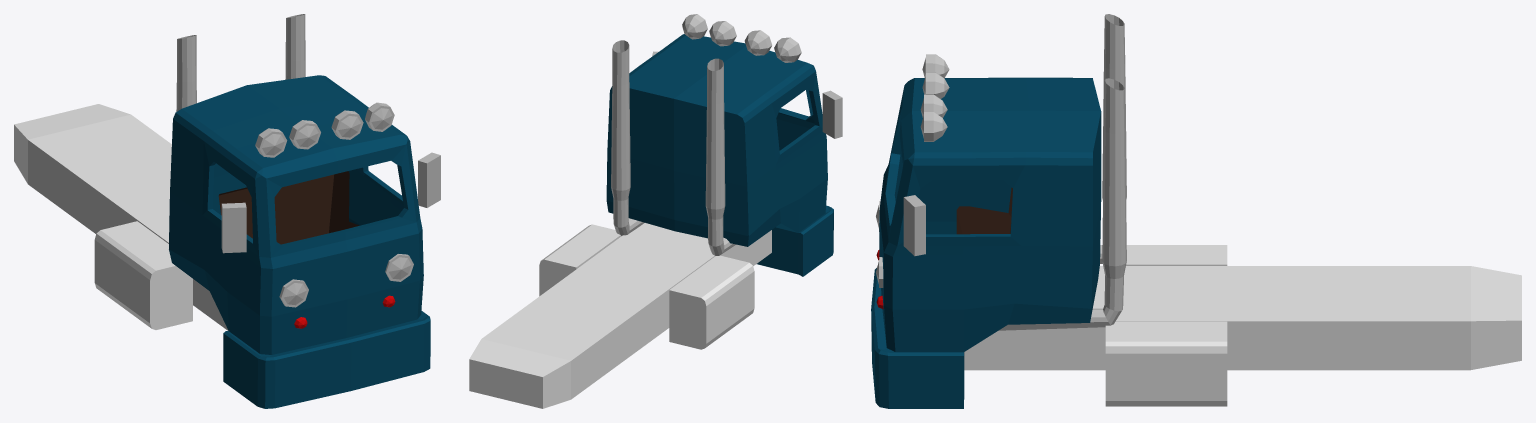
File: truck 2.glb
The picture shows the model from 3 angles, left to right: view 1: azimuth 30°, elevation 25°; view 2: azimuth 150°, elevation 25°; view 3: azimuth 270°, elevation 25°; orthographic projection. The views are drawn at different scales.
Parts seen in each view (by area): view 1: Cube.067, Cube.068, Cube.070, Cube.066, Plane.059, Plane.068, Cube.078, Cube.074, Cylinder.120, Cylinder.126, Cylinder.119, Cylinder.102 (+2 smaller); view 2: Cube.067, Cube.068, Cube.070, Plane.068, Plane.059, Cube.069, Cube.078, Cylinder.119, Cylinder.126, Cylinder.120, Cylinder.102; view 3: Cube.067, Cube.068, Cube.069, Plane.068, Cube.070, Plane.059, Cube.066, Cube.074, Cylinder.102.
Boxes of the visible parts, x1,y1,x2,y2 form: Cube.067: (169,75,430,408); Cube.068: (14,104,228,330); Cube.070: (94,221,192,329); Cube.066: (218,171,359,244); Plane.059: (176,35,196,111); Plane.068: (285,14,305,79); Cube.078: (221,202,246,253); Cube.074: (418,152,440,207); Cylinder.120: (331,110,363,139); Cylinder.126: (255,128,287,157); Cylinder.119: (289,120,320,149); Cylinder.102: (365,102,394,131); Cube.067: (606,34,833,276); Cube.068: (469,223,771,408); Cube.070: (669,255,754,349); Plane.068: (611,40,644,235); Plane.059: (705,58,735,255); Cube.069: (539,224,621,296); Cube.078: (822,90,842,138); Cylinder.119: (744,30,772,55); Cylinder.126: (774,37,801,62); Cylinder.120: (709,21,736,46); Cylinder.102: (682,14,707,39); Cube.067: (871,77,1101,408); Cube.068: (964,266,1521,370); Cube.069: (1105,321,1227,406); Plane.068: (999,78,1126,330); Cube.070: (1126,245,1227,265); Plane.059: (1100,14,1126,263); Cube.066: (956,187,1012,234); Cube.074: (903,195,925,256); Cylinder.102: (920,112,947,141).
Bounding box in the file's own units: 4.22 × 5.37 × 9.95.
